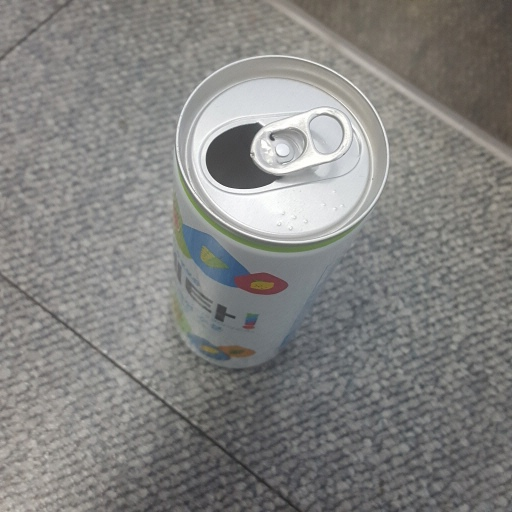Metal_0: (170, 53, 390, 374)
